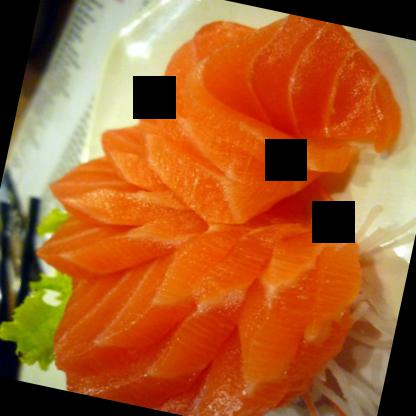salmon: (2, 0, 415, 415)
